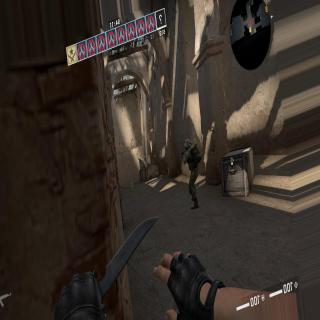CT-Body: (182, 133, 202, 212)
CT-Head: (183, 138, 190, 150)
